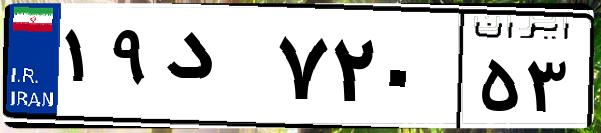0: (385, 28, 445, 110)
1: (57, 26, 110, 100)
2: (330, 28, 385, 110)
3: (525, 38, 570, 115)
5: (475, 38, 525, 113)
7: (270, 28, 330, 110)
9: (110, 28, 158, 98)
د: (158, 20, 270, 120)
